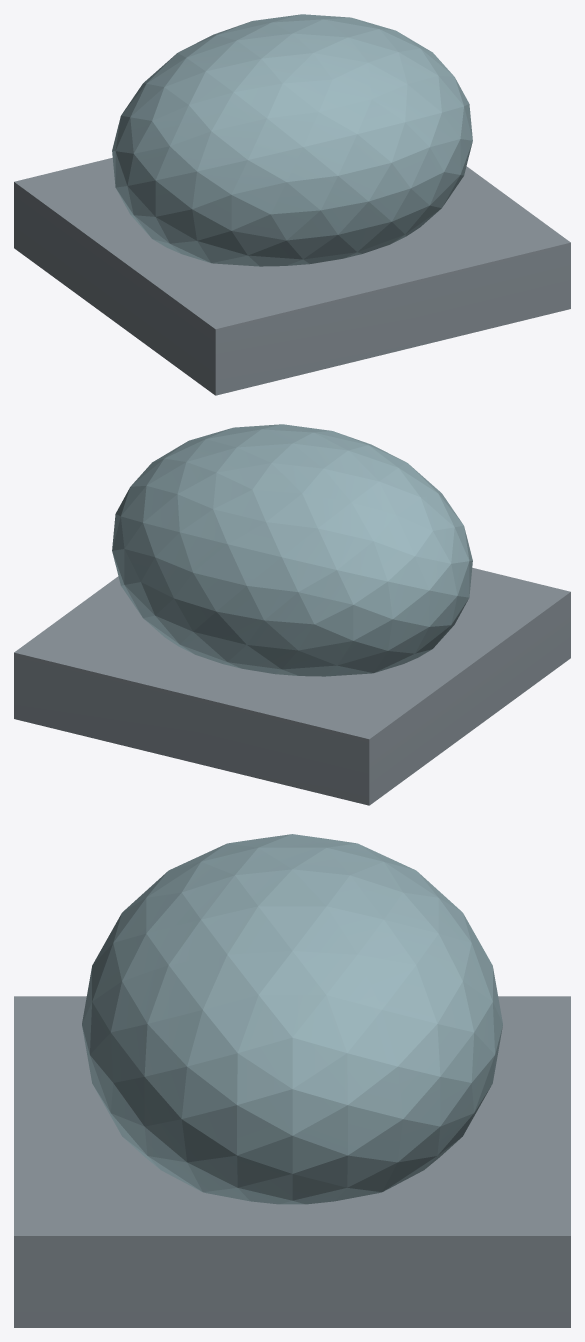
The model's file is greenhouse-01.glb.
3 views of the same model, one above another, from view 1: azimuth 30°, elevation 25°; view 2: azimuth 150°, elevation 25°; view 3: azimuth 270°, elevation 25° (orthographic). The views are drawn at different scales.
Visible parts, largest first — view 1: world; view 2: world; view 3: world.
Boxes of the visible parts, box(x1,y1,x2,y2) form: world: box(14, 14, 570, 395); world: box(14, 424, 570, 805); world: box(14, 834, 570, 1327).
Size of the model in its own units: 1.12 by 0.738 by 1.1.
